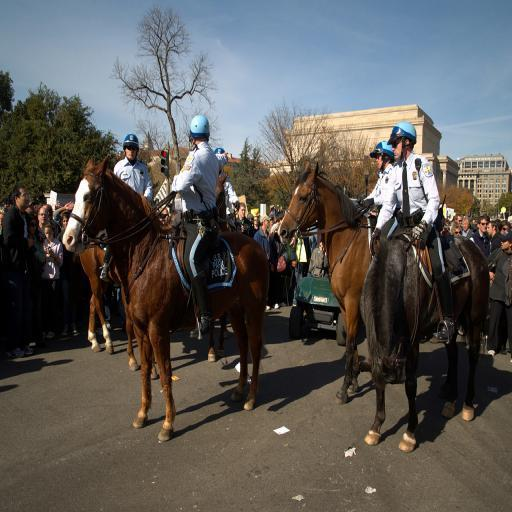horse: (60, 154, 268, 442), (276, 162, 441, 406), (362, 234, 490, 454), (78, 244, 160, 382)
